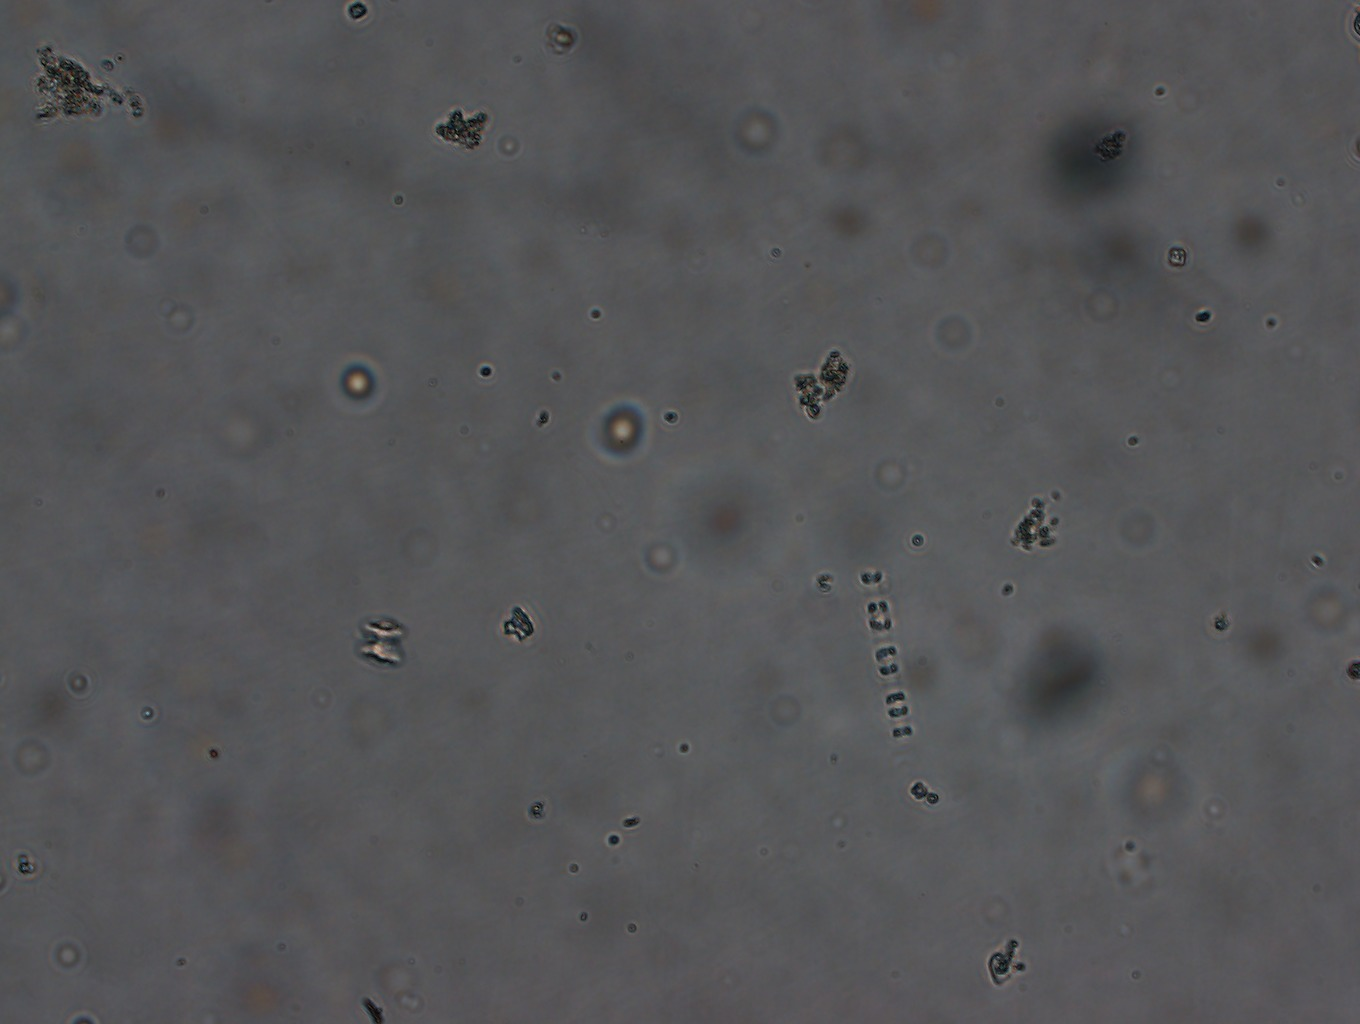skeletonema: (849, 555, 934, 760)
